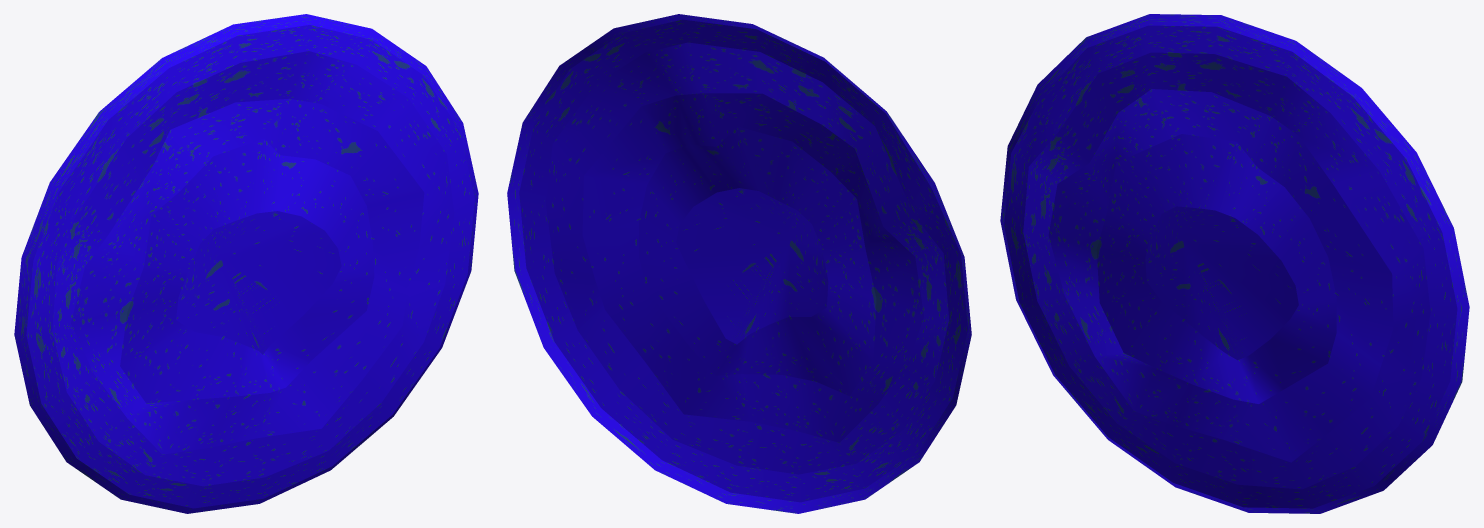
Rendered from m_Portal03.fbx.
3 views of the same model, side by side, from view 1: azimuth 30°, elevation 25°; view 2: azimuth 150°, elevation 25°; view 3: azimuth 330°, elevation 25° (orthographic).
Visible parts, largest first — view 1: pSphere6; view 2: pSphere6; view 3: pSphere6.
Boxes of the visible parts, box(x1,y1,x2,y2) form: pSphere6: box(14, 14, 478, 513); pSphere6: box(507, 14, 971, 513); pSphere6: box(1000, 14, 1469, 513).
Size of the model in its own units: 15.27 by 15.27 by 0.981.
